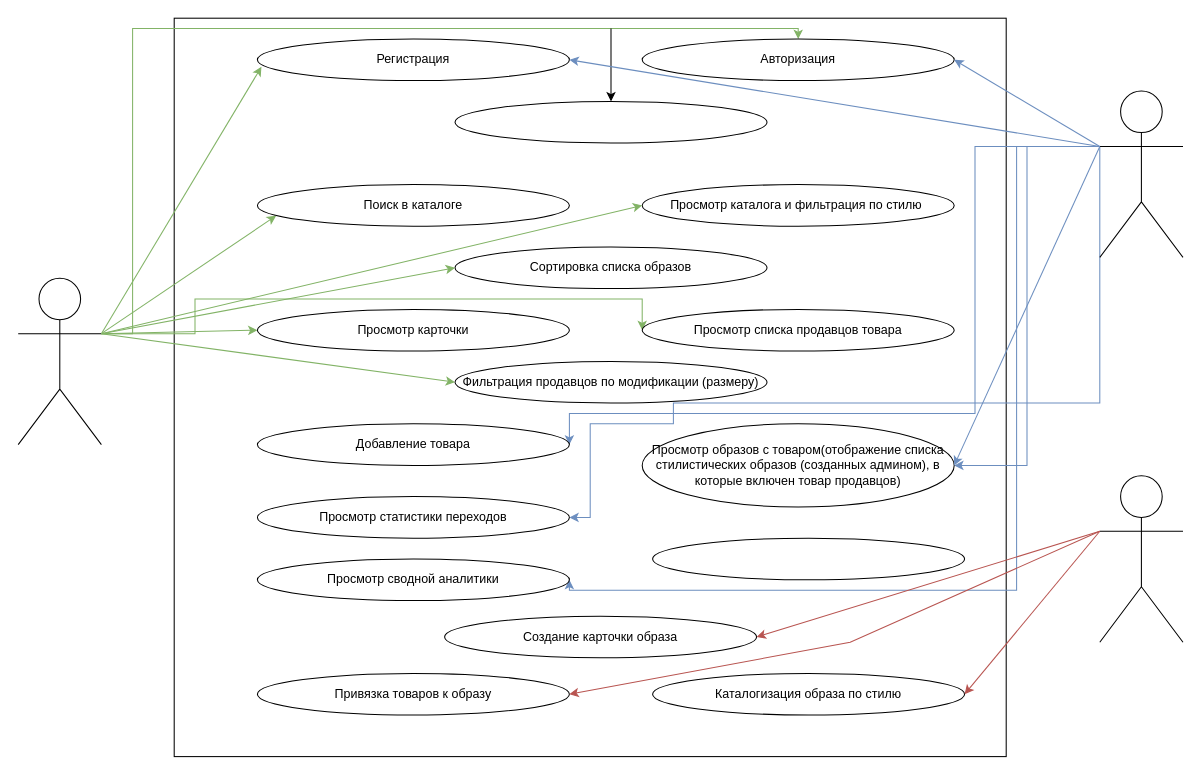
The diagram is 1204 pixels wide and 775 high, and some of its shapes have lost their labels. The centre of each missing label's shape, as x and y in pixels:
Администратор: the point at 1141,558
Пользователь: the point at 59,361
Продавец: the point at 1141,173
Просмотр истории просмотра образов: the point at 610,121
Просмотр трендов популярности: the point at 808,558
